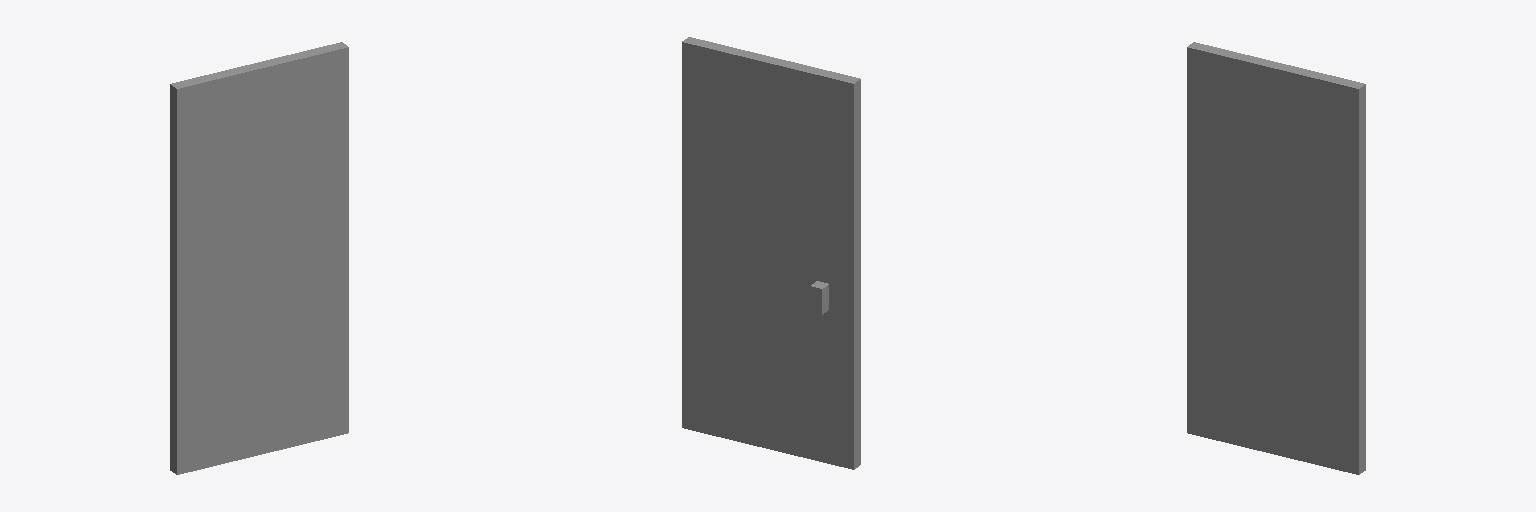
File: locker_large_door.obj
The picture shows the model from 3 angles: view 1: azimuth 30°, elevation 25°; view 2: azimuth 150°, elevation 25°; view 3: azimuth 330°, elevation 25°; orthographic projection.
Visible parts, largest first — view 1: locker_large_door; view 2: locker_large_door; view 3: locker_large_door.
Part boxes in pixels (left/top/right/bottom): locker_large_door: left=170, top=42, right=348, bottom=474; locker_large_door: left=682, top=37, right=860, bottom=469; locker_large_door: left=1187, top=42, right=1365, bottom=474.
Bounding box in the file's own units: 0.875 × 1.88 × 0.125.